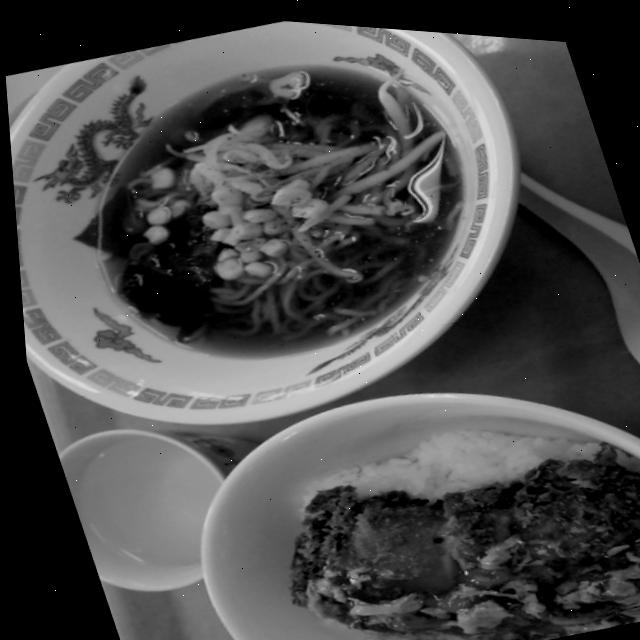面条主食: (0, 0, 631, 541)
